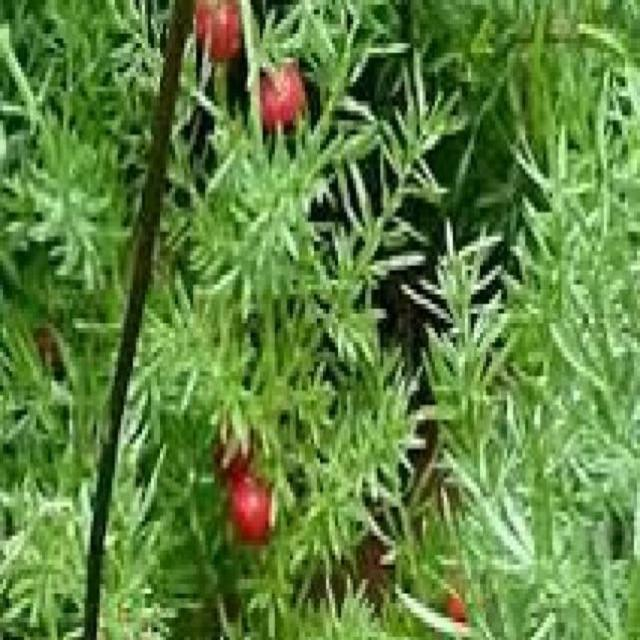Healty Apple: (216, 458, 274, 564)
